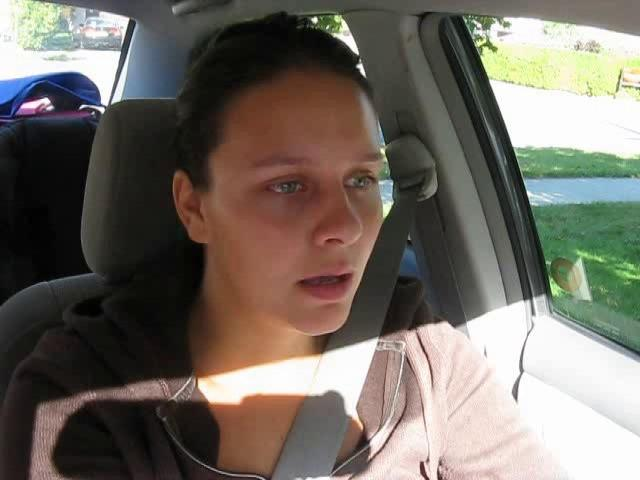eye_open: (257, 172, 312, 204), (344, 166, 380, 192)
face: (224, 136, 393, 338)
